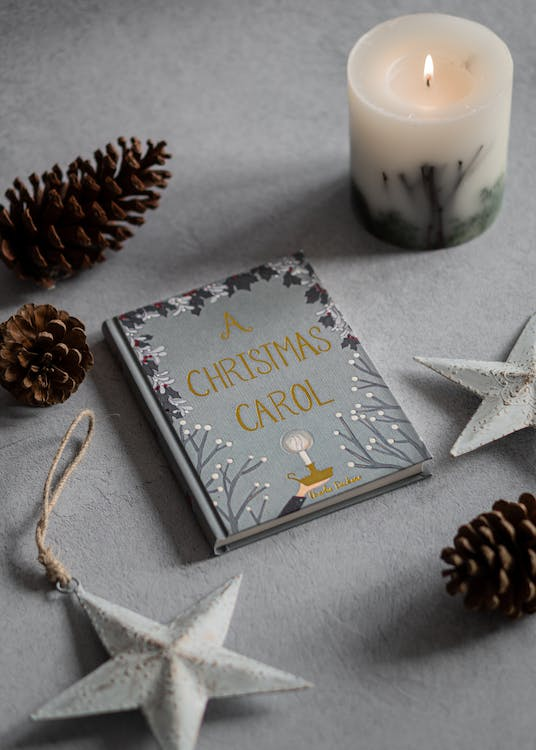book: (101, 249, 435, 562)
